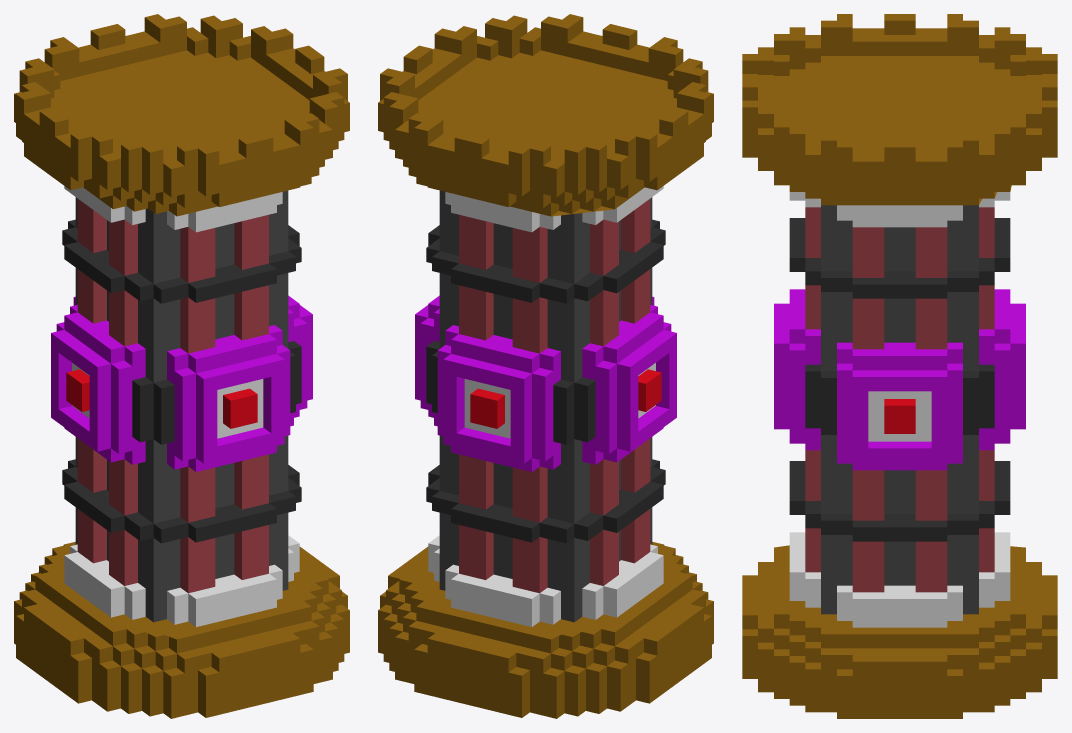
File: TallPillar.fbx
3 renders of one model, left to right at view 1: azimuth 30°, elevation 25°; view 2: azimuth 150°, elevation 25°; view 3: azimuth 270°, elevation 25°, orthographic.
Visible parts, largest first — view 1: pillar; view 2: pillar; view 3: pillar.
Boxes of the visible parts, x1=… form: pillar: x1=14, y1=14, x2=349, y2=718; pillar: x1=378, y1=14, x2=713, y2=718; pillar: x1=742, y1=14, x2=1057, y2=718.
Bounding box in the file's own units: 160 × 320 × 160.
